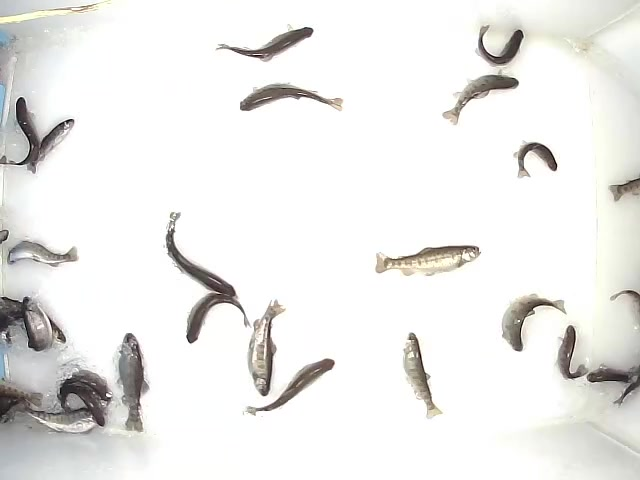fish: (163, 207, 240, 302), (242, 354, 336, 417), (440, 67, 520, 127), (499, 292, 570, 353), (245, 297, 288, 397), (401, 330, 444, 421), (215, 25, 315, 64), (239, 81, 344, 118), (116, 328, 153, 433), (374, 242, 482, 276), (183, 292, 248, 343), (24, 117, 76, 177), (54, 376, 111, 430), (21, 400, 109, 434), (1, 95, 39, 167), (5, 235, 80, 268), (474, 23, 527, 68), (21, 290, 57, 353), (553, 319, 587, 381), (513, 138, 561, 179)
